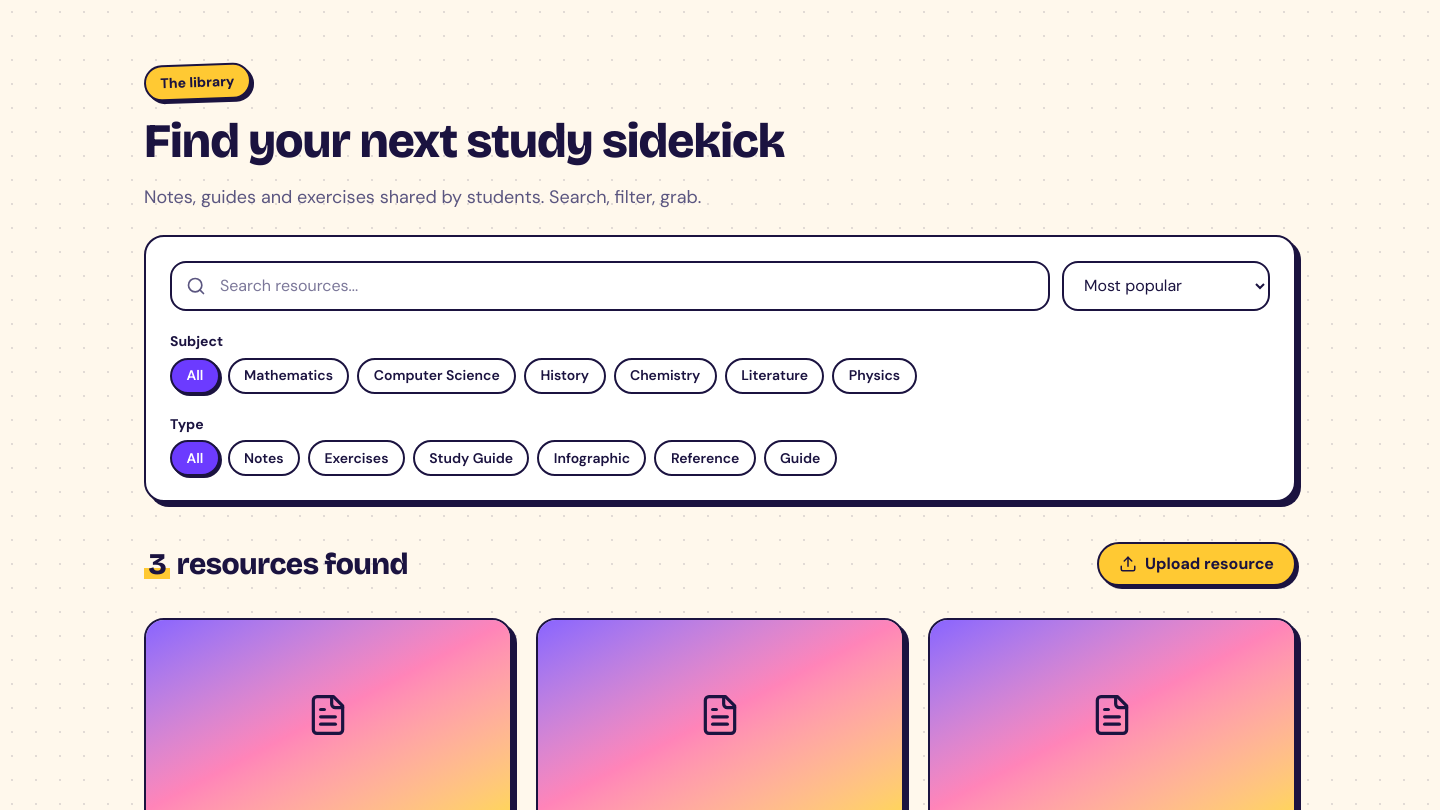
Resources page › filters by search text
Type "timeline" into the search field labelled "Search resources...".
click(610, 286); type("timeline")  # box [170,261,1050,311]
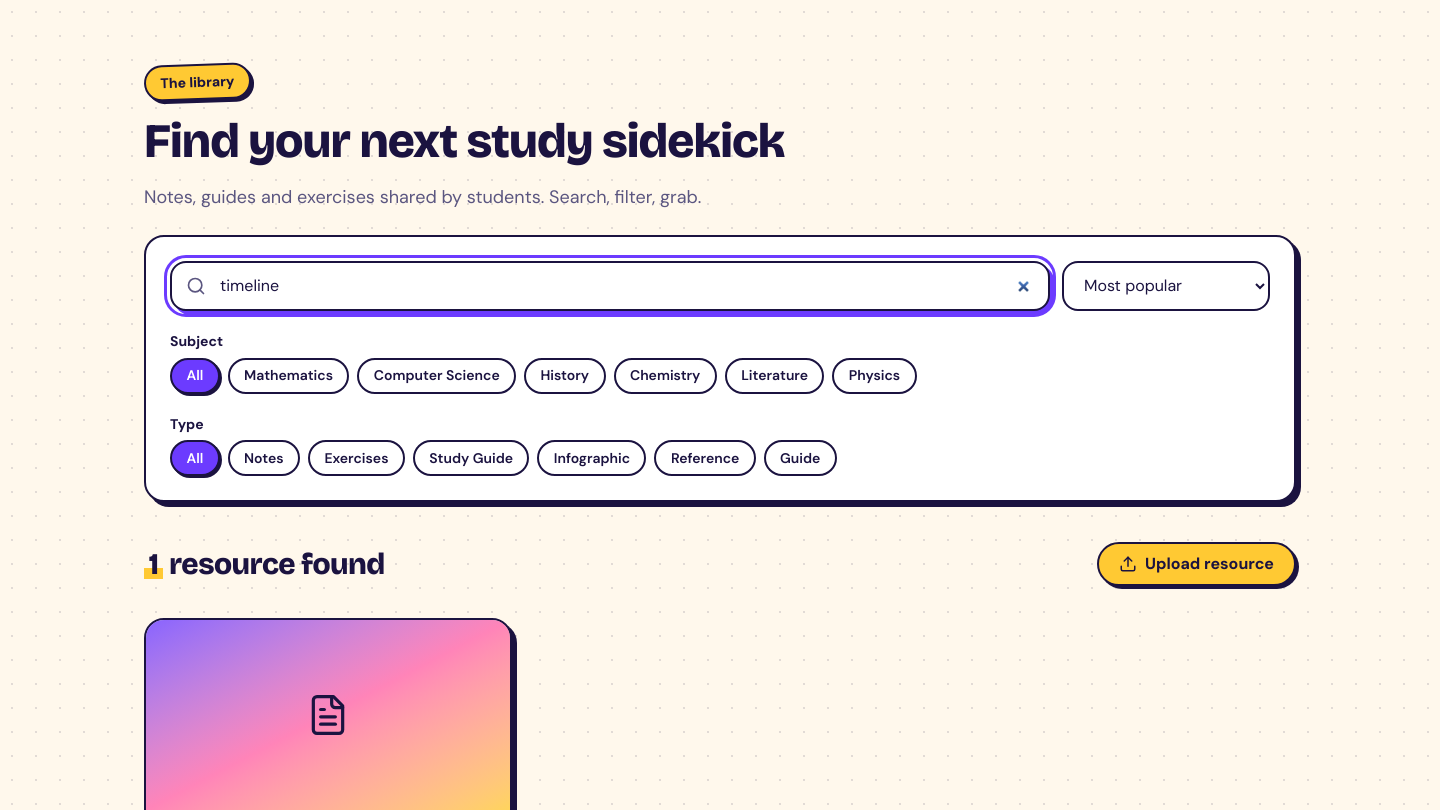
Expected: the heading "1 resource found" is shown, [144,546,385,582]
